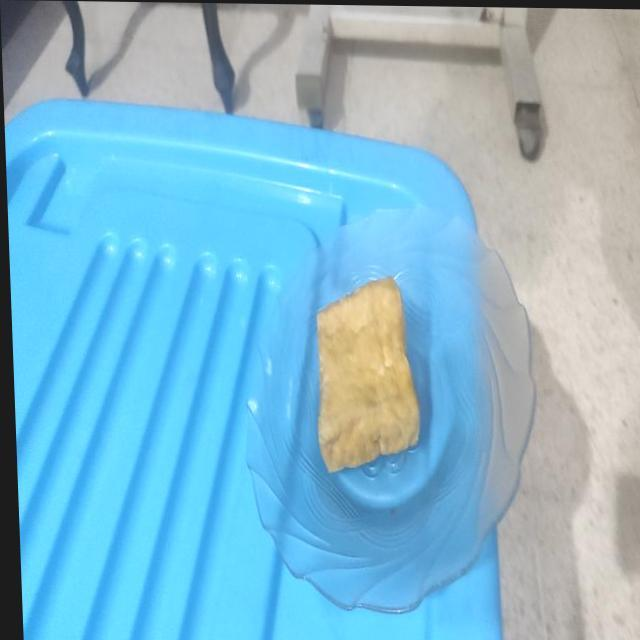tahu_goreng: (317, 276, 420, 472)
